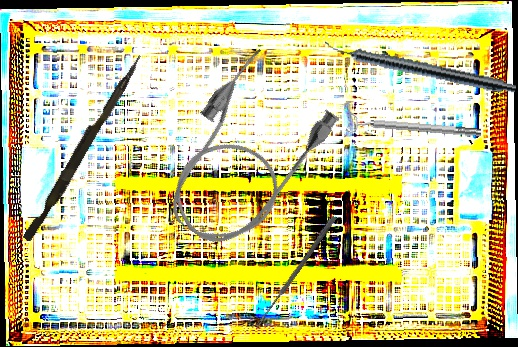Cannula: (141, 42, 347, 264)
Fixation Ring: (345, 111, 482, 144)
Handpiece: (322, 37, 518, 97)
Pusher: (22, 50, 144, 245)
Surgical Spoon: (254, 214, 337, 330)
